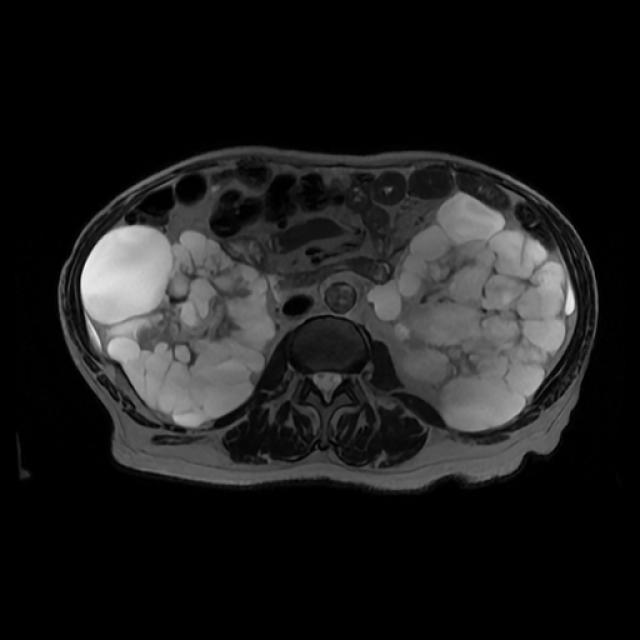sag: (80, 225, 276, 428)
sol: (363, 190, 568, 429)
